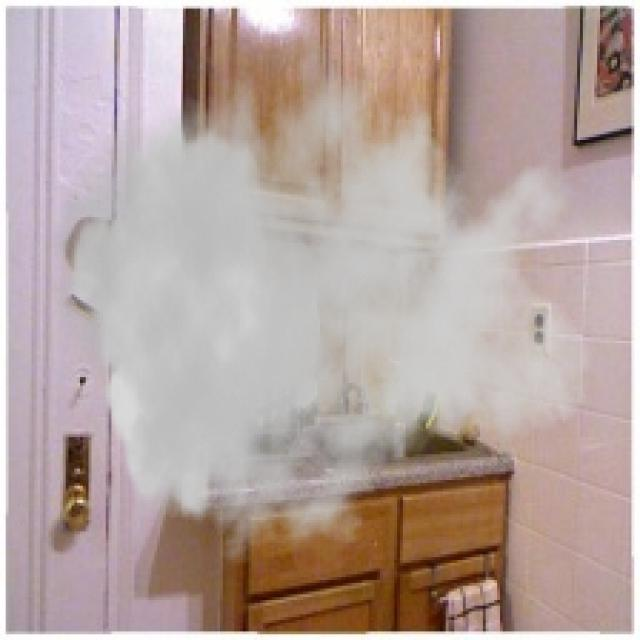smoke: (51, 12, 594, 574)
